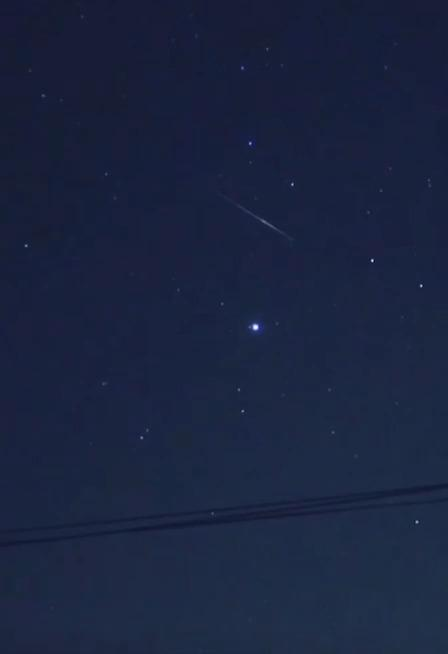meteorite: (201, 180, 307, 248)
